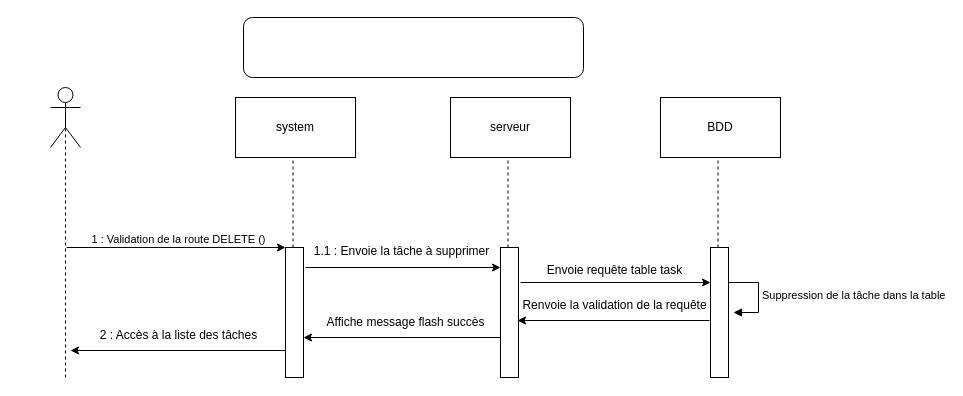
Image size: 963x396. Some labels were removed from this diagram. The centre of each missing label's shape, as x and y in pixels:
"Diagramme de séquence : Suppression d'une tâche" belongs at pixel 413 47.
"Utilisateur ( User )" belongs at pixel 65 117.
